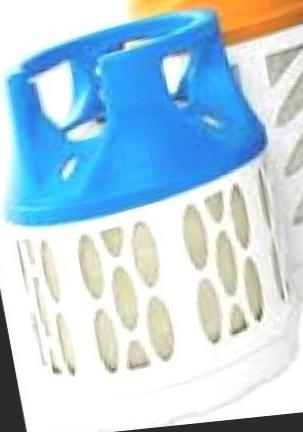cylinder: (1, 0, 303, 432)
